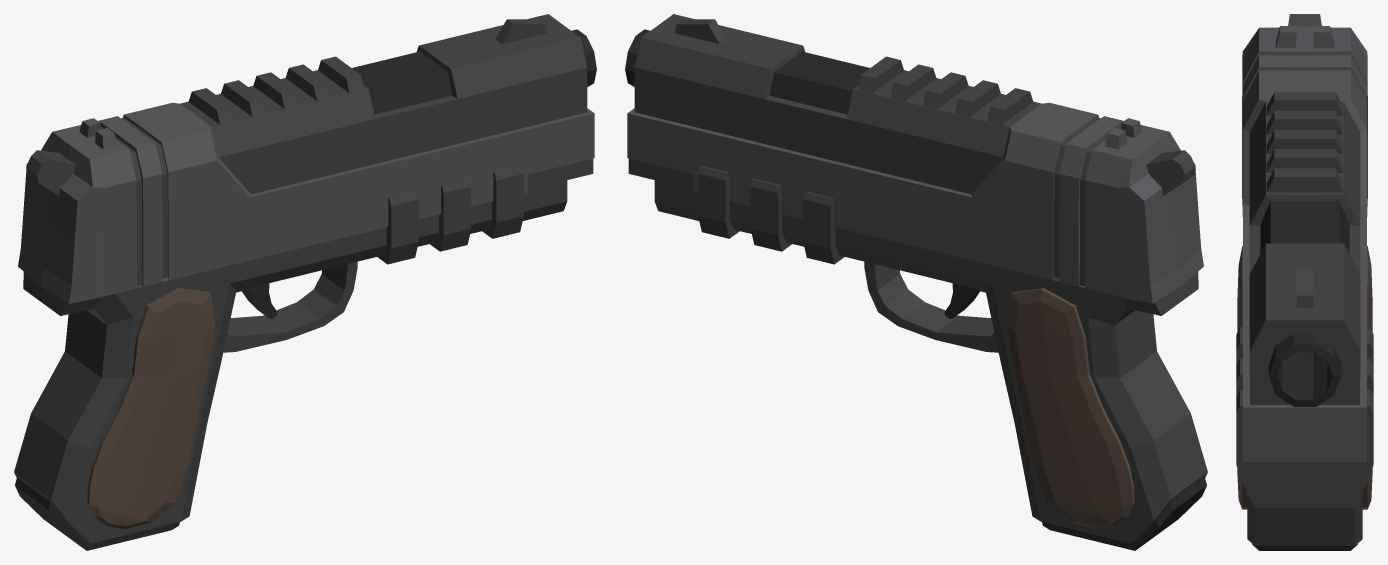
The model's file is signal_9_pistol.glb.
3 renders of one model, left to right at view 1: azimuth 30°, elevation 25°; view 2: azimuth 150°, elevation 25°; view 3: azimuth 270°, elevation 25°, orthographic. The views are drawn at different scales.
Visible parts, largest first — view 1: Pistol_3; view 2: Pistol_3; view 3: Pistol_3.
Part boxes in pixels (<box>): Pistol_3: <box>14,14,596,550</box>; Pistol_3: <box>625,14,1207,550</box>; Pistol_3: <box>1236,14,1373,550</box>.
Size of the model in its own units: 184 by 129 by 32.86.
